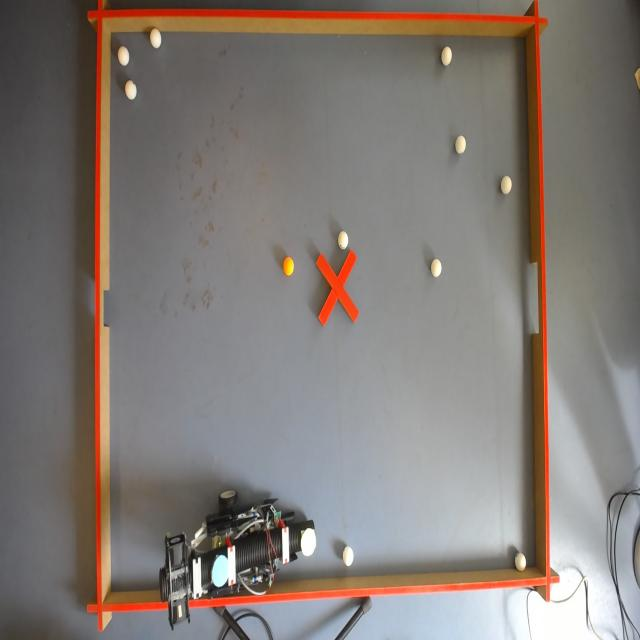orange: (283, 258, 296, 279)
robot: (159, 486, 317, 630)
robot-front: (298, 528, 319, 562)
robot-rear: (213, 556, 233, 585)
white: (341, 545, 355, 569), (124, 79, 138, 102), (150, 28, 163, 51), (431, 258, 444, 279), (515, 550, 527, 572), (501, 176, 513, 196), (119, 46, 130, 65), (455, 135, 466, 154), (338, 231, 350, 248), (442, 47, 452, 67)
